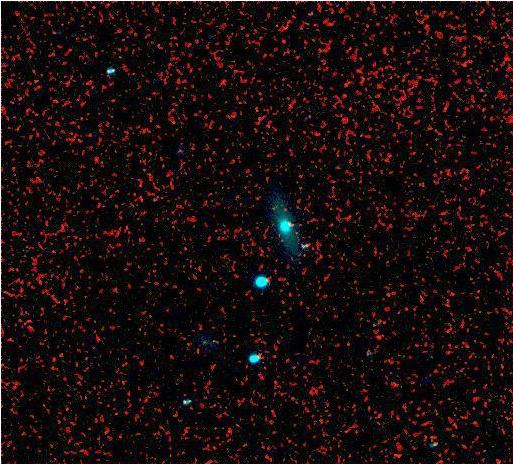star: (203, 326, 233, 356)
